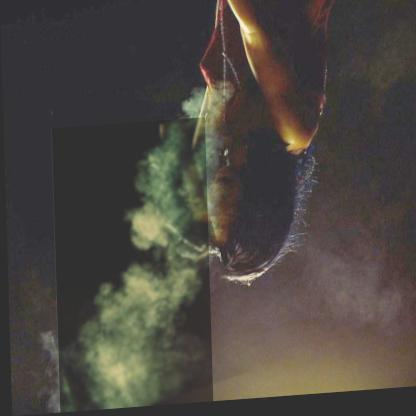smoke: (56, 122, 209, 411)
